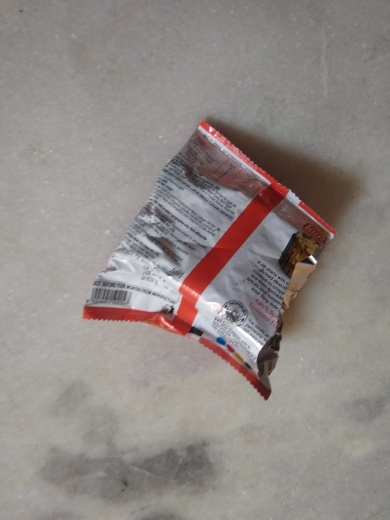lays: (78, 104, 347, 424)
